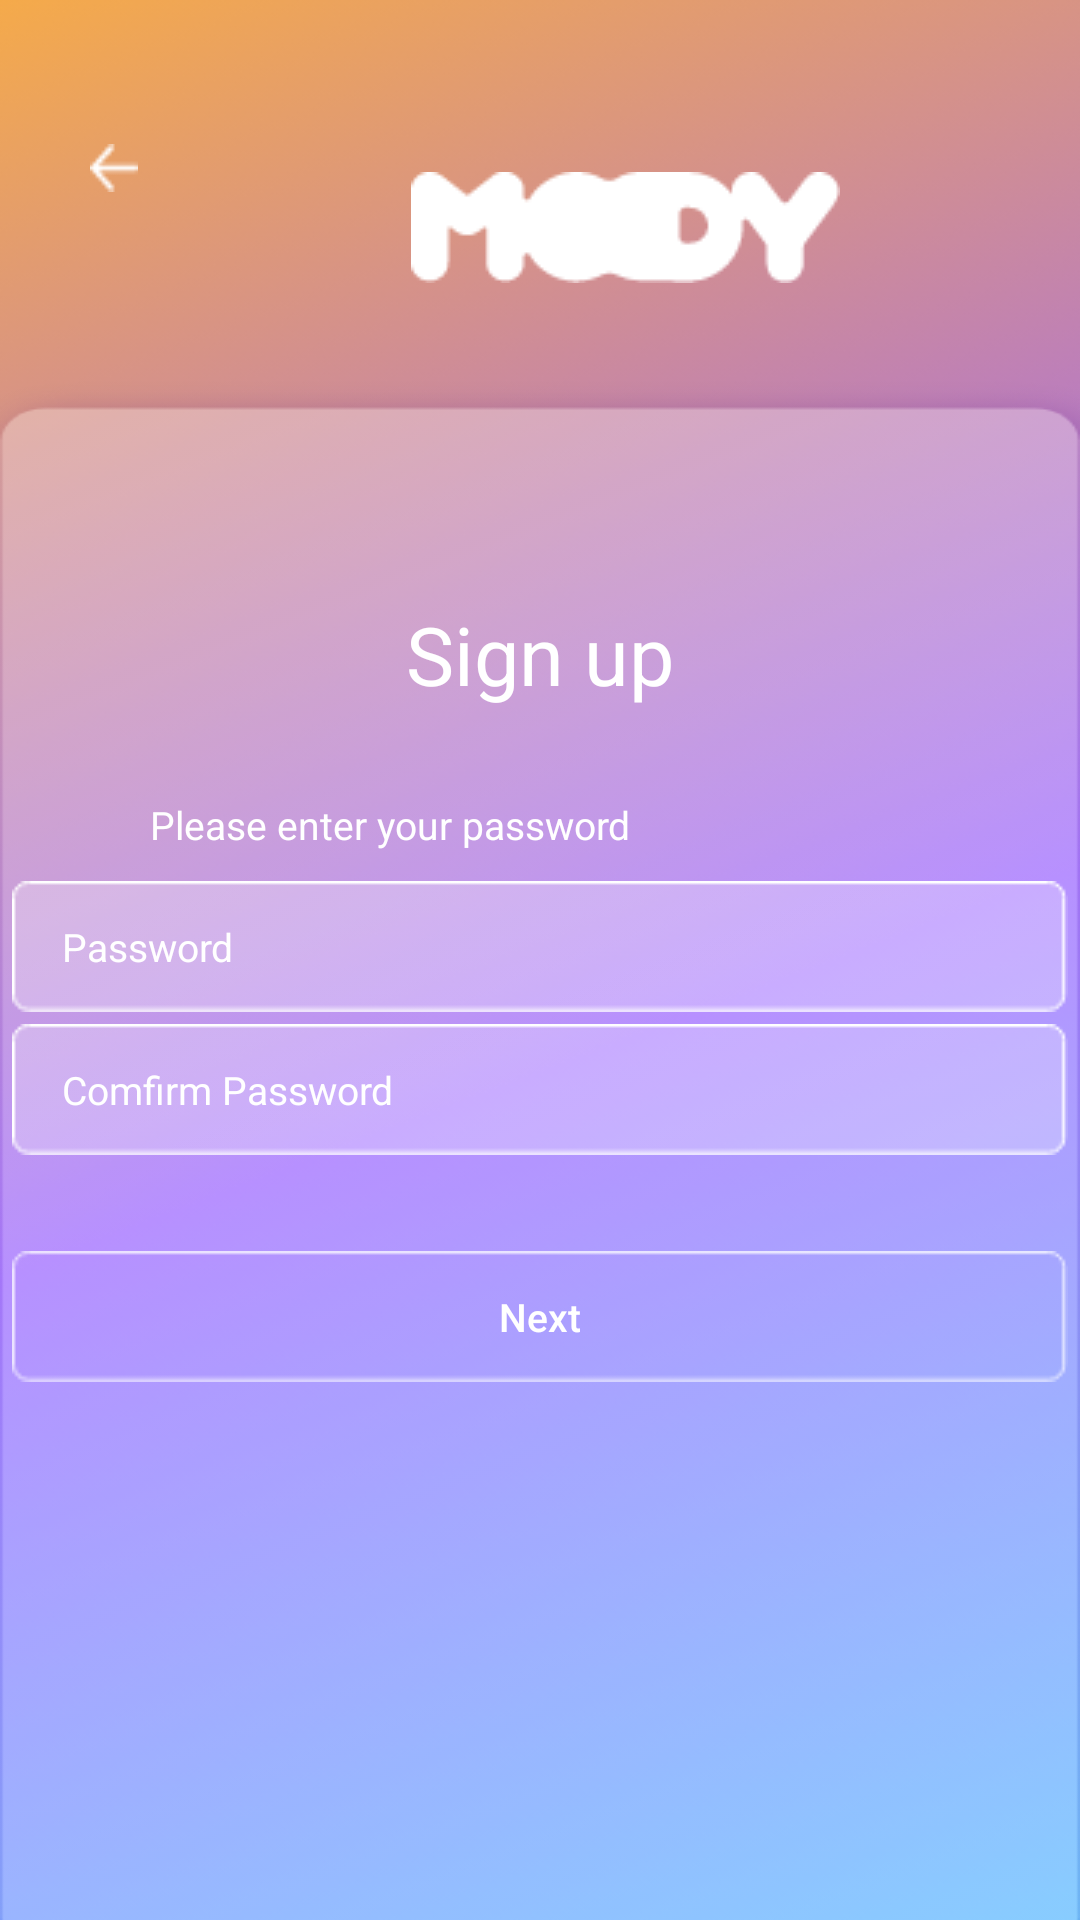

Named icons in this screenshot (1080w x 1920h) and their bounding boxes, (x1, y1, x2, y2):
sign back: (90, 144, 138, 192)
